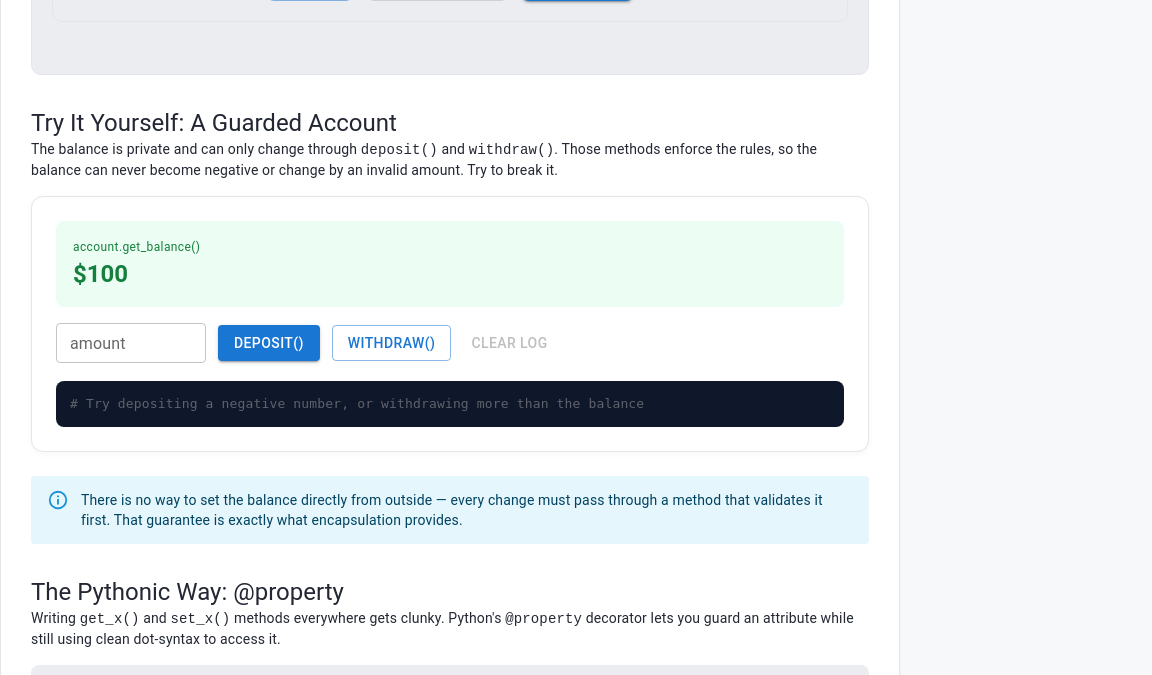
Test case: EncapsulationConcept › rejects a negative deposit and keeps the balance
The width and height of the screenshot is (1152, 675).
(page scrolled)
Type "-10" into the number field at (131, 343), box [56, 323, 206, 363]
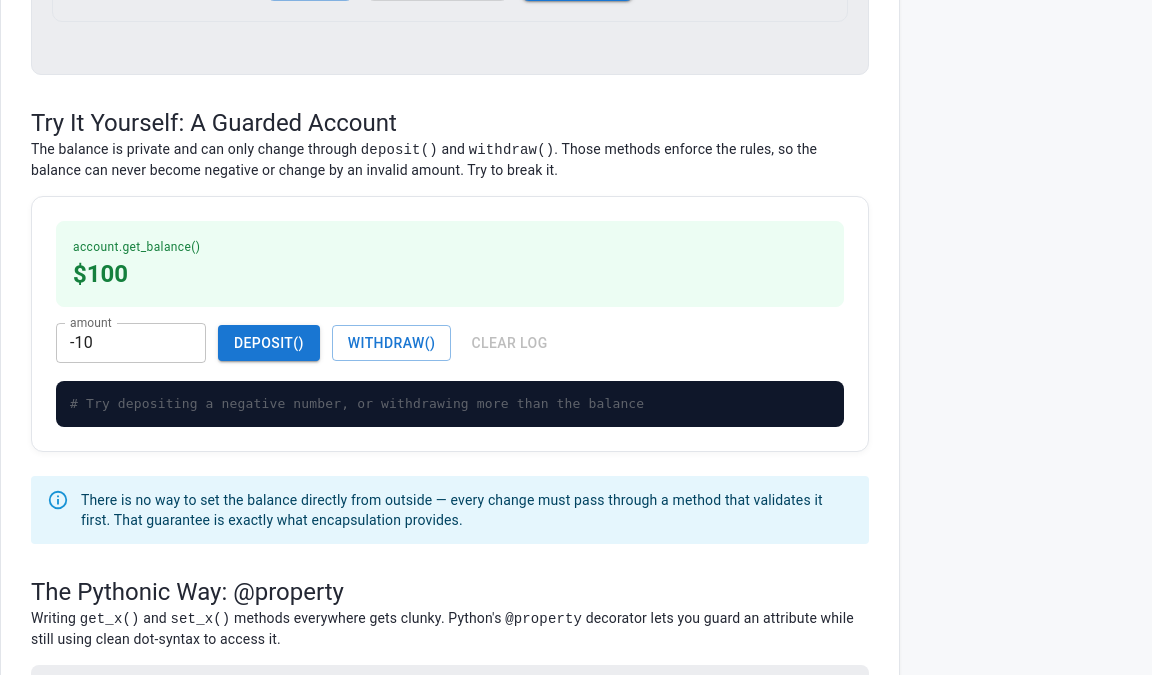
Click the button "deposit()" at (269, 343), box [218, 324, 320, 361]
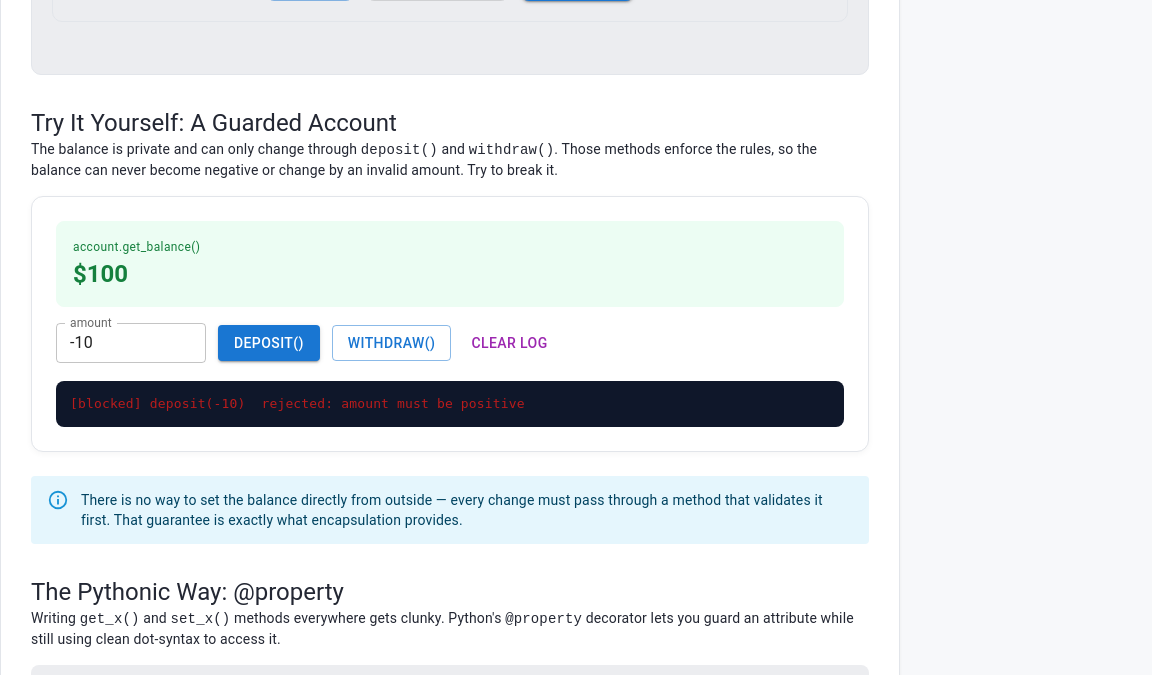
Expected: the heading "$100" is shown, [73, 260, 128, 288]
Now the text "[blocked] deposit(-10) rejected: amount must be positive" is shown, box [70, 396, 525, 411]
